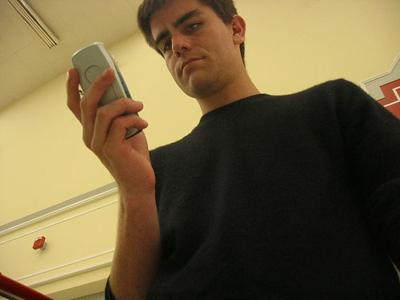person: (66, 2, 400, 300)
